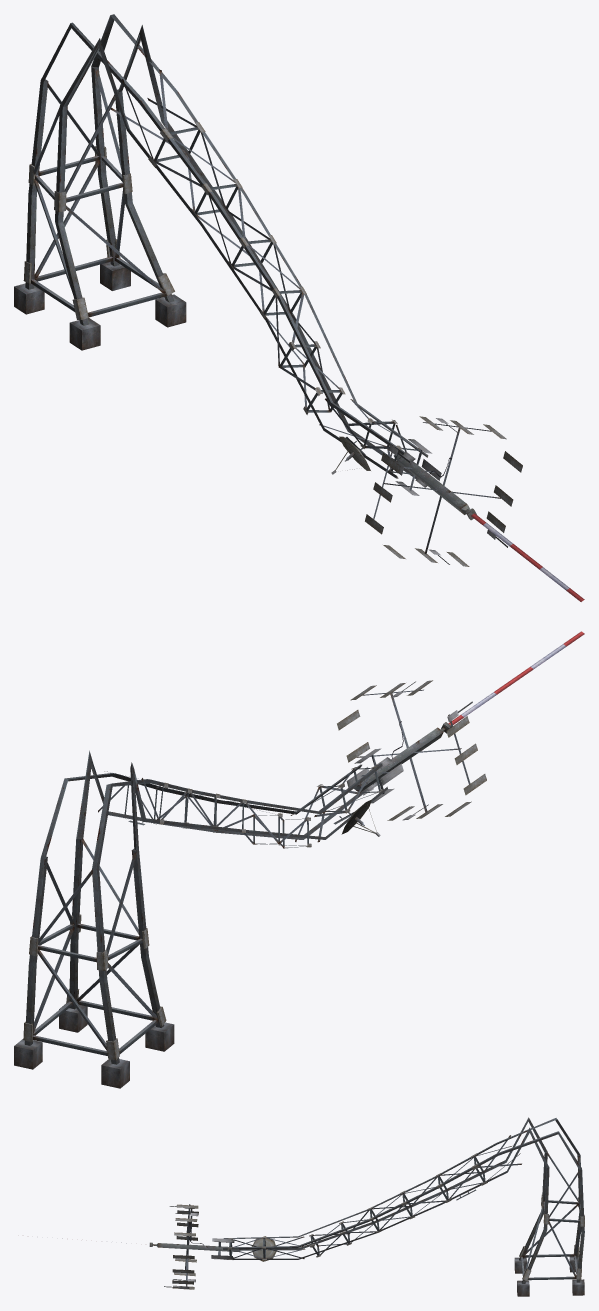
The model's file is Vehicle_Tt001.glb.
3 renders of one model, top to bottom at view 1: azimuth 30°, elevation 25°; view 2: azimuth 150°, elevation 25°; view 3: azimuth 270°, elevation 25°, orthographic. The views are drawn at different scales.
Visible parts, largest first — view 1: tianwang_tt001; view 2: tianwang_tt001; view 3: tianwang_tt001.
Boxes of the visible parts, x1,y1,x2,y2 form: tianwang_tt001: [14, 14, 584, 601]; tianwang_tt001: [14, 631, 584, 1088]; tianwang_tt001: [62, 1117, 584, 1296].
Size of the model in its own units: 4.57 by 9.36 by 29.79.
1 material, 1 textured.
